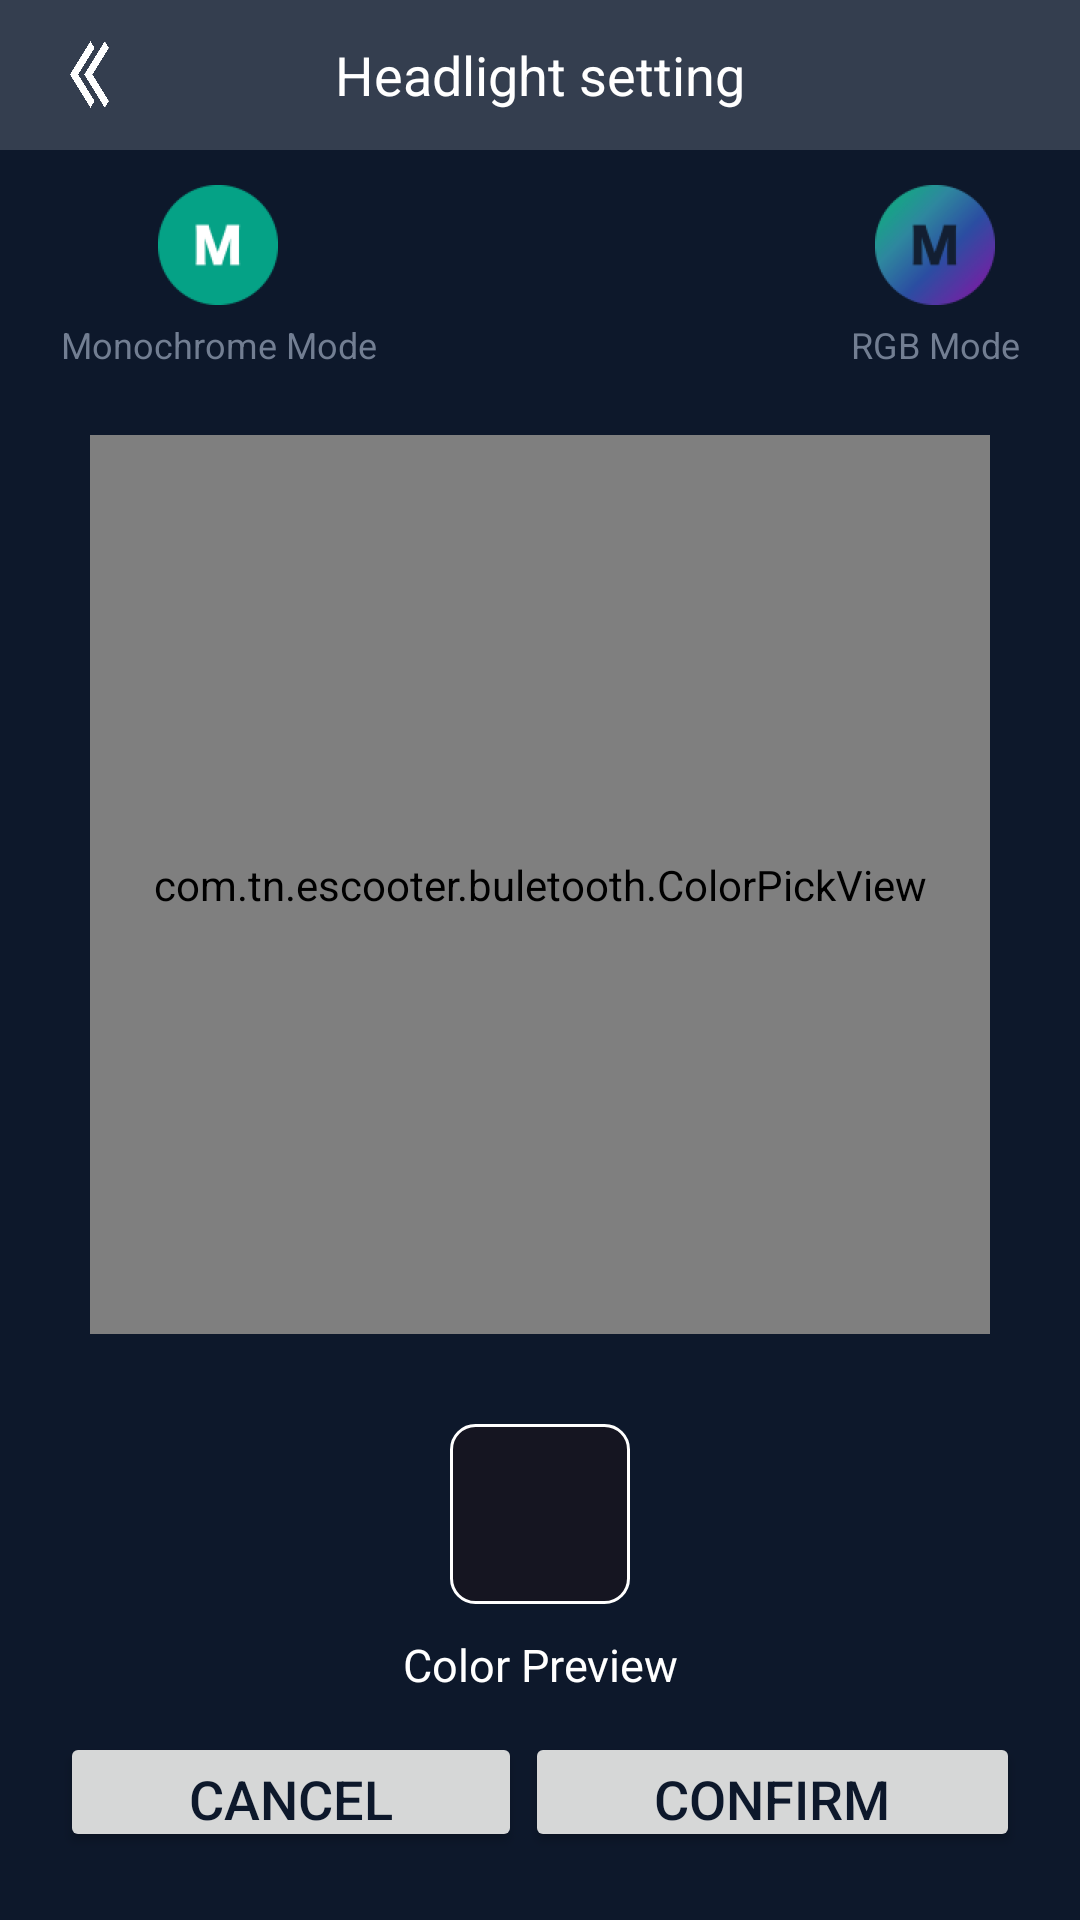

Where to tap for icons on this 1080px x 1920px app screen, as (x=x, y=y):
back: (x=89, y=74)
more pure: (x=218, y=245)
